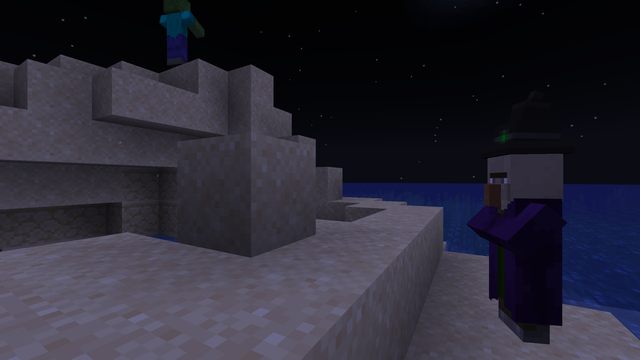sorcieres: (487, 144, 568, 355)
zombies: (161, 0, 192, 68)
